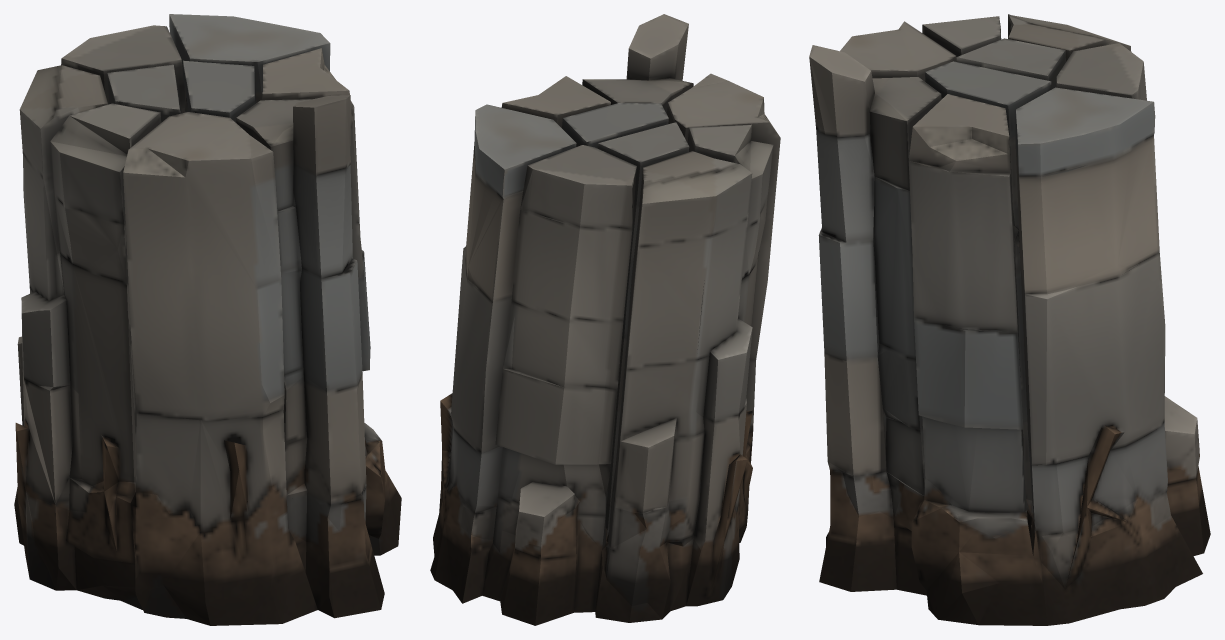
File: earth_column_c.glb
3 views of the same model, side by side, from view 1: azimuth 30°, elevation 25°; view 2: azimuth 150°, elevation 25°; view 3: azimuth 270°, elevation 25° (orthographic). The views are drawn at different scales.
Visible parts, largest first — view 1: earth_column_c_LOD0; view 2: earth_column_c_LOD0; view 3: earth_column_c_LOD0.
Part boxes in pixels (x1=…): earth_column_c_LOD0: x1=14, y1=14, x2=401, y2=625; earth_column_c_LOD0: x1=430, y1=14, x2=780, y2=625; earth_column_c_LOD0: x1=809, y1=14, x2=1210, y2=625.
Size of what is drawn, in the model's own units: 4.97 by 7.2 by 5.16.
1 material, 1 textured.
